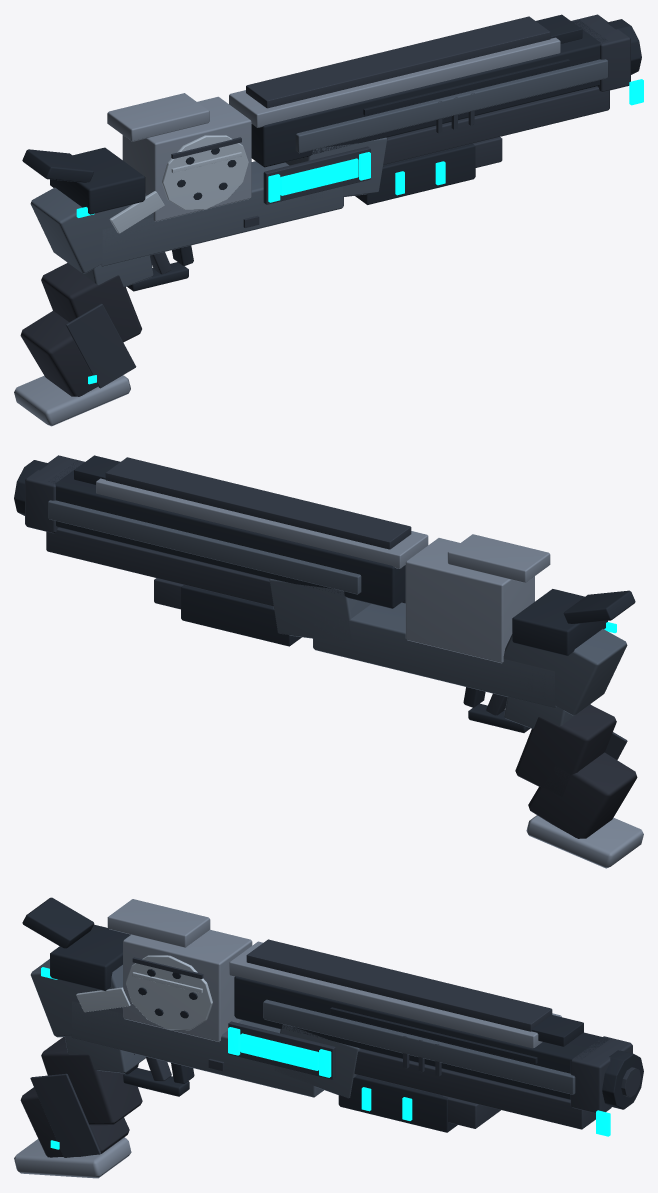
The model's file is scifi_revolver_reference_match.glb.
3 renders of one model, top to bottom at view 1: azimuth 30°, elevation 25°; view 2: azimuth 150°, elevation 25°; view 3: azimuth 330°, elevation 25°, orthographic.
Visible parts, largest first — view 1: Long_Top_Rail, Upper_Barrel_Dark_Block, Lower_Frame_Main, Top_View_Barrel_Side_Width, Long_Lower_Barrel_Block, Upper_Barrel_Top_Slate, Cylinder_Boxy_Housing, Rear_Triangular_Frame_Block, Cylinder_Visible_Face, Grip_Main_Upper, Top_View_Rear_Wide_Block, Grip_Main_Lower (+16 smaller); view 2: Cylinder_Boxy_Housing, Upper_Barrel_Dark_Block, Lower_Frame_Main, Long_Top_Rail, Top_View_Barrel_Side_Width, Long_Lower_Barrel_Block, Upper_Barrel_Top_Slate, Grip_Main_Lower, Grip_Main_Upper, Rear_Triangular_Frame_Block, Front_Frame_Nose, Underbarrel_Attached_Module (+10 smaller); view 3: Long_Top_Rail, Upper_Barrel_Dark_Block, Lower_Frame_Main, Top_View_Barrel_Side_Width, Long_Lower_Barrel_Block, Cylinder_Boxy_Housing, Upper_Barrel_Top_Slate, Cylinder_Visible_Face, Grip_Main_Upper, Top_View_Rear_Wide_Block, Underbarrel_Attached_Module, Grip_Flush_Side_Panel (+19 smaller).
Boxes of the visible parts, box(x1,y1,x2,y2) form: Long_Top_Rail: box(246, 16, 550, 108); Upper_Barrel_Dark_Block: box(251, 20, 607, 167); Lower_Frame_Main: box(101, 161, 343, 266); Top_View_Barrel_Side_Width: box(295, 59, 608, 153); Long_Lower_Barrel_Block: box(383, 86, 609, 165); Upper_Barrel_Top_Slate: box(229, 37, 560, 127); Cylinder_Boxy_Housing: box(122, 96, 251, 221); Rear_Triangular_Frame_Block: box(30, 187, 160, 273); Cylinder_Visible_Face: box(162, 135, 248, 209); Grip_Main_Upper: box(41, 263, 141, 342); Top_View_Rear_Wide_Block: box(50, 147, 145, 214); Grip_Main_Lower: box(20, 310, 98, 396); Cylinder_Boxy_Housing: box(405, 538, 534, 663); Upper_Barrel_Dark_Block: box(48, 461, 405, 608); Lower_Frame_Main: box(313, 602, 556, 708); Long_Top_Rail: box(105, 457, 411, 549); Top_View_Barrel_Side_Width: box(48, 500, 361, 594); Long_Lower_Barrel_Block: box(46, 527, 273, 606); Upper_Barrel_Top_Slate: box(96, 478, 428, 568); Grip_Main_Lower: box(528, 752, 637, 838); Grip_Main_Upper: box(515, 704, 616, 796); Rear_Triangular_Frame_Block: box(503, 629, 627, 715); Front_Frame_Nose: box(269, 578, 371, 641); Underbarrel_Attached_Module: box(181, 585, 301, 646); Long_Top_Rail: box(246, 939, 552, 1031); Upper_Barrel_Dark_Block: box(234, 976, 609, 1099); Lower_Frame_Main: box(71, 1001, 323, 1097); Top_View_Barrel_Side_Width: box(263, 999, 575, 1094); Long_Lower_Barrel_Block: box(354, 1049, 611, 1129); Cylinder_Boxy_Housing: box(123, 929, 252, 1041); Upper_Barrel_Top_Slate: box(229, 941, 561, 1048); Cylinder_Visible_Face: box(126, 955, 212, 1030); Grip_Main_Upper: box(41, 1037, 142, 1125); Top_View_Rear_Wide_Block: box(50, 924, 130, 990); Underbarrel_Attached_Module: box(338, 1075, 457, 1132); Grip_Flush_Side_Panel: box(30, 1073, 100, 1157).
Size of the model in its own units: 5 by 2.18 by 0.6.
